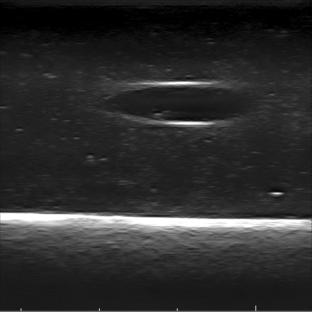vessel: (110, 80, 253, 128)
